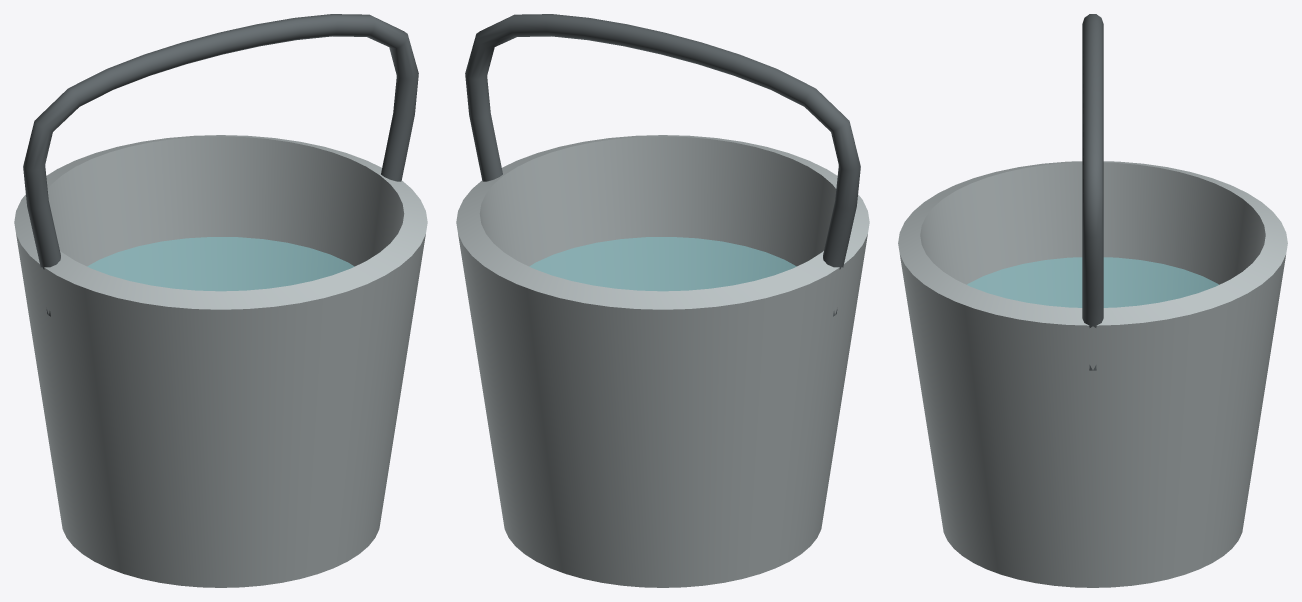
Rendered from glassblowing-studio-and-gallery-quench-bucket-733cc765__29609.glb.
3 views of the same model, side by side, from view 1: azimuth 30°, elevation 25°; view 2: azimuth 150°, elevation 25°; view 3: azimuth 270°, elevation 25° (orthographic). The views are drawn at different scales.
Visible parts, largest first — view 1: quench-bucket; view 2: quench-bucket; view 3: quench-bucket.
Part boxes in pixels (x1,y1,x2,y2): quench-bucket: (14,14,427,587); quench-bucket: (456,14,869,587); quench-bucket: (898,14,1287,587).
Size of the model in its own units: 0.482 by 0.5714 by 0.44.
